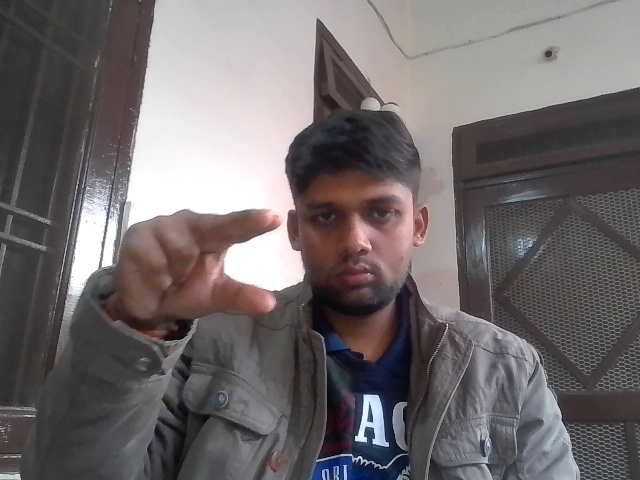No: (109, 197, 297, 339)
